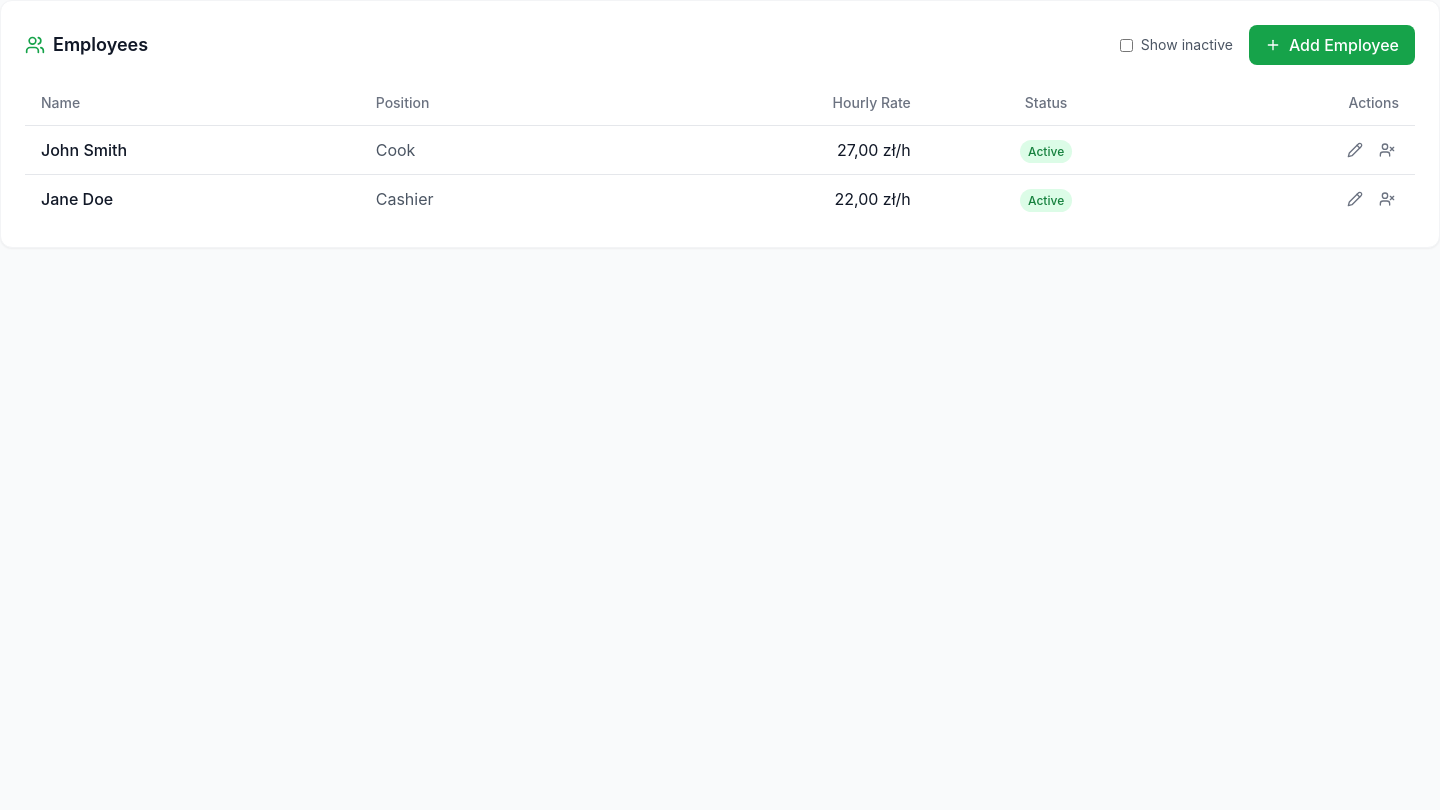
it: EmployeesSection › Create Employee › opens add employee modal when clicking add button
Expected: the text "John Smith" is shown, [25, 126, 360, 174]
What coordinates should you click on to do the following:
click the button "Add Employee"
I would click on:
 (1332, 45)
Its box is [1249, 25, 1415, 65].
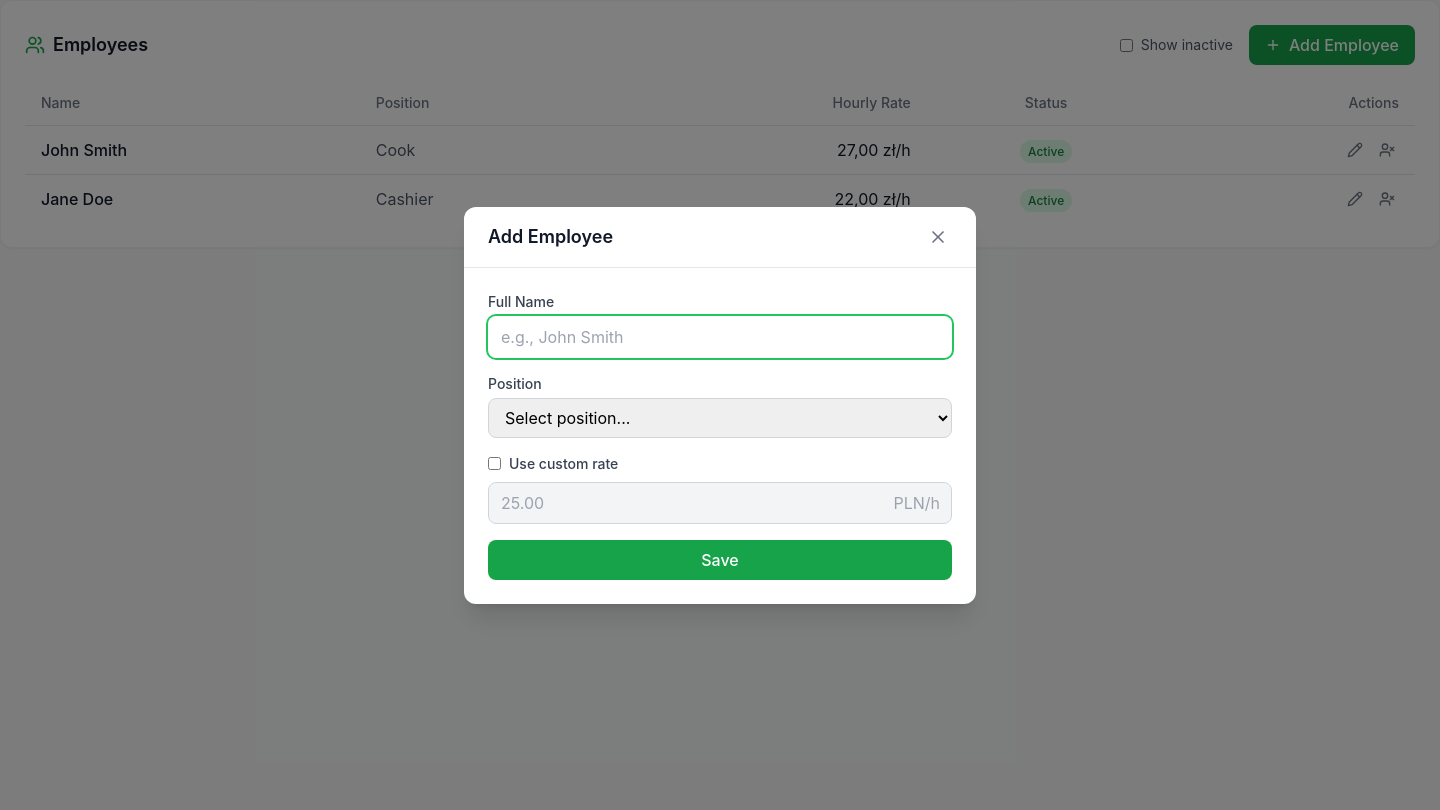
Result: the dialog is shown
Result: the heading "Add Employee" is shown at [488, 222, 613, 250]
